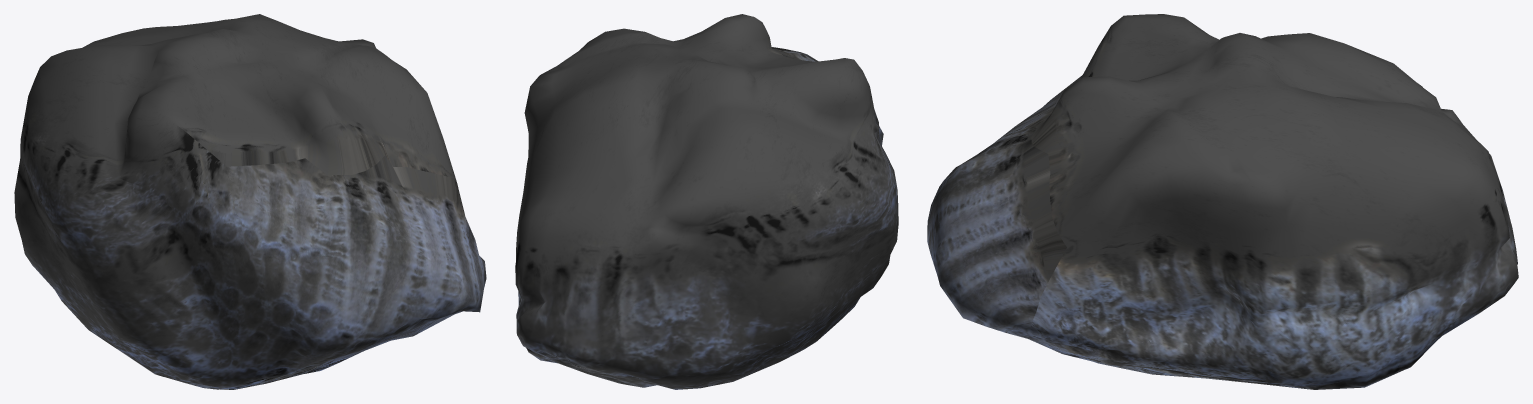
Rendered from rock_02.FBX.
3 views of the same model, side by side, from view 1: azimuth 30°, elevation 25°; view 2: azimuth 150°, elevation 25°; view 3: azimuth 270°, elevation 25° (orthographic). The views are drawn at different scales.
Visible parts, largest first — view 1: rock_02; view 2: rock_02; view 3: rock_02.
Part boxes in pixels (left/top/right/bottom): rock_02: left=14, top=14, right=486, bottom=389; rock_02: left=515, top=14, right=898, bottom=389; rock_02: left=927, top=14, right=1518, bottom=389.
Size of the model in its own units: 21.75 by 17.83 by 32.25.
